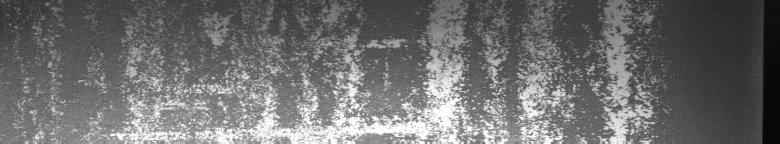kb: (7, 4, 672, 136)
